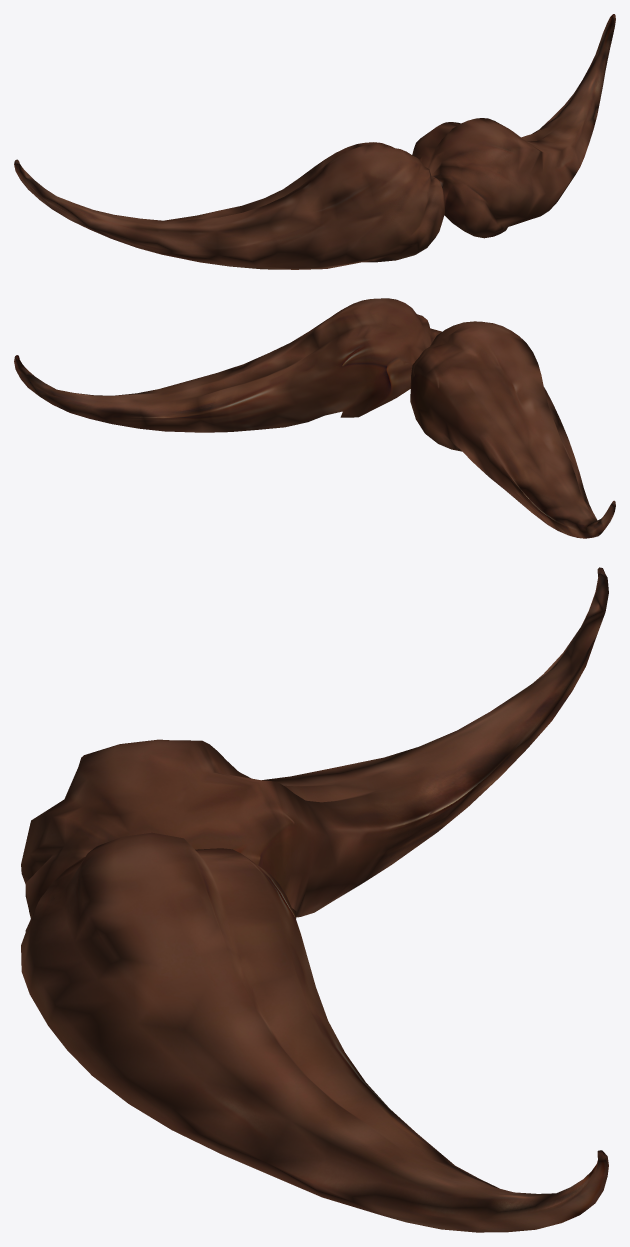
File: moustache.glb
3 views of the same model, one above another, from view 1: azimuth 30°, elevation 25°; view 2: azimuth 150°, elevation 25°; view 3: azimuth 270°, elevation 25° (orthographic). The views are drawn at different scales.
Visible parts, largest first — view 1: tripo_node_2fe49f1a-501b-4df8-8b6c-82993ec798ac; view 2: tripo_node_2fe49f1a-501b-4df8-8b6c-82993ec798ac; view 3: tripo_node_2fe49f1a-501b-4df8-8b6c-82993ec798ac.
Boxes of the visible parts, x1,y1,x2,y2 form: tripo_node_2fe49f1a-501b-4df8-8b6c-82993ec798ac: (14,14,615,269); tripo_node_2fe49f1a-501b-4df8-8b6c-82993ec798ac: (14,298,615,538); tripo_node_2fe49f1a-501b-4df8-8b6c-82993ec798ac: (21,567,608,1232).
Size of the model in its own units: 0.9995 by 0.1865 by 0.4243.
1 material, 1 textured.
